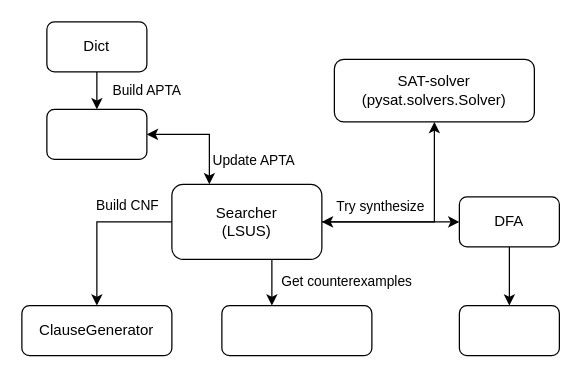
Some shapes in this 581 by 378 pixel diagram are drawn without their labels. Each missing label, with the box of its shape:
APTA: (46, 108, 147, 159)
ExamplesProvider: (221, 304, 372, 356)
Final DFA: (458, 304, 559, 356)
